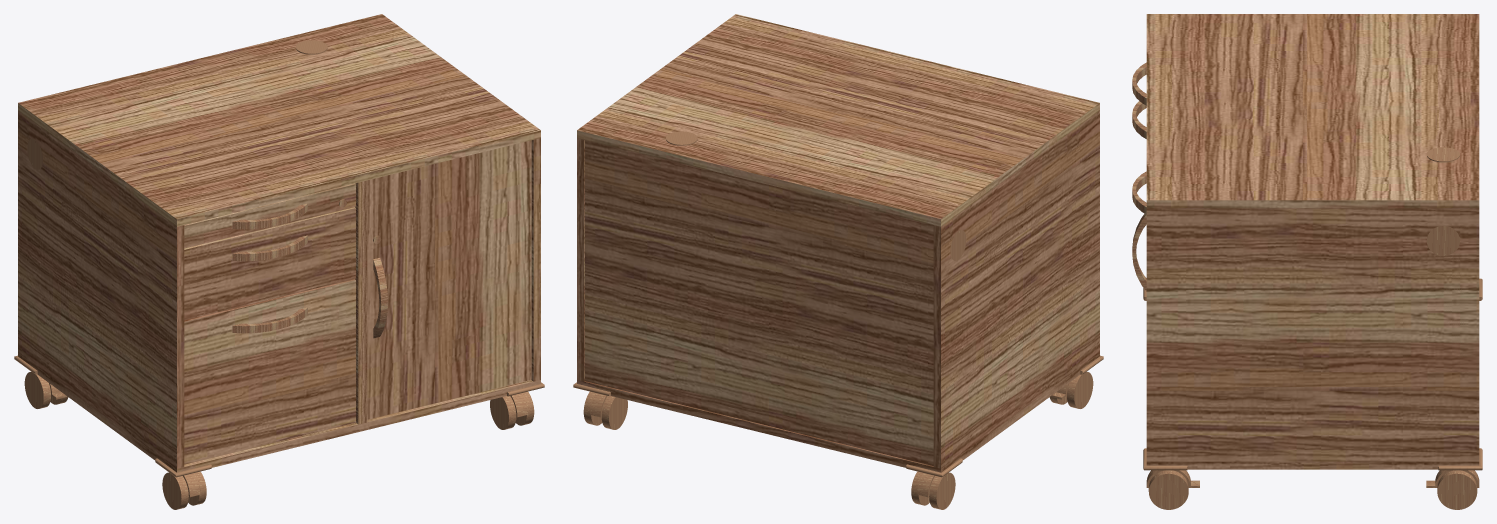
Rendered from combi_cabinet_shelves_1_3_6_79_finala.fbx.
3 renders of one model, left to right at view 1: azimuth 30°, elevation 25°; view 2: azimuth 150°, elevation 25°; view 3: azimuth 270°, elevation 25°, orthographic. The views are drawn at different scales.
Parts seen in each view (by area): view 1: obudowa_mesh, drewno_mesh (×4), plastik_mesh, metal_mesh (×4); view 2: obudowa_mesh, plastik_mesh; view 3: obudowa_mesh, plastik_mesh, metal_mesh.
Part boxes in pixels (x1,y1,x2,y2): obudowa_mesh: (18,14,540,472); drewno_mesh (×4): (184,140,531,464); plastik_mesh: (14,40,544,509); metal_mesh (×4): (232,203,387,338); obudowa_mesh: (577,14,1099,472); plastik_mesh: (573,131,1103,509); obudowa_mesh: (1146,14,1479,469); plastik_mesh: (1143,147,1482,509); metal_mesh: (1132,211,1146,291).
Bounding box in the file's own units: 80.6 × 62.4 × 63.2.
